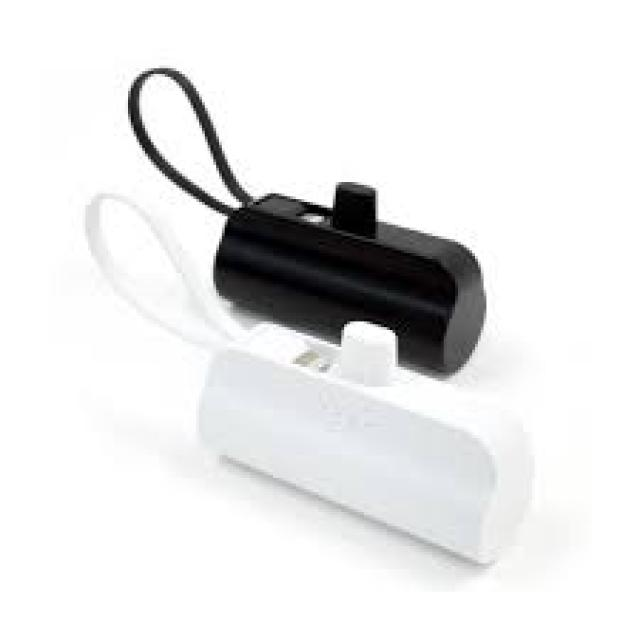portable-charger: (195, 320, 534, 572), (214, 178, 490, 386)
